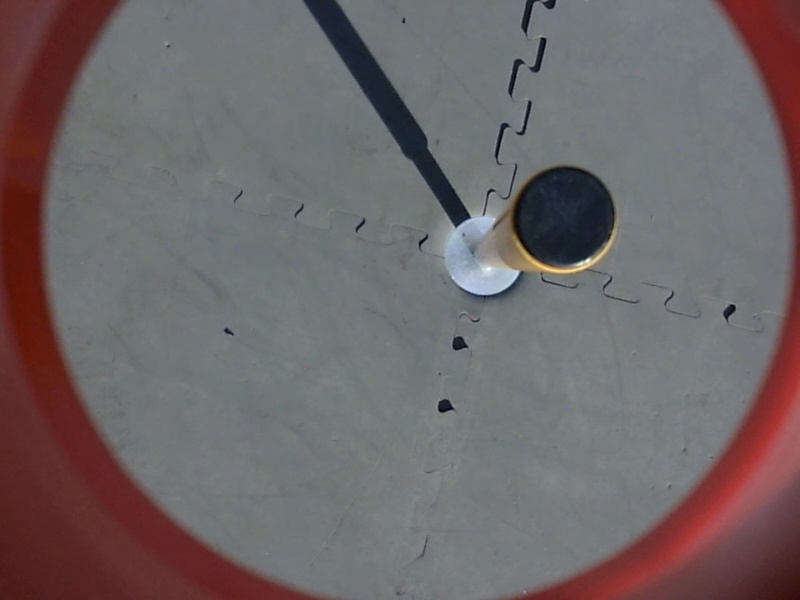tip: (507, 162, 620, 279)
